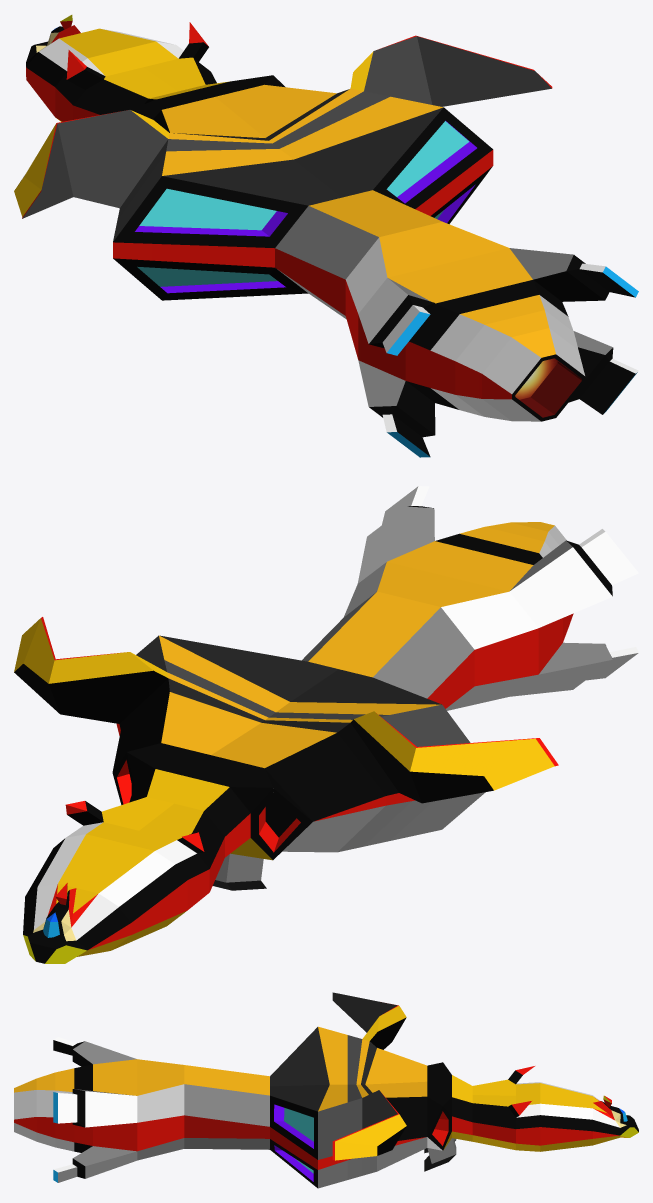
The model's file is Mothership.fbx.
3 views of the same model, one above another, from view 1: azimuth 30°, elevation 25°; view 2: azimuth 150°, elevation 25°; view 3: azimuth 270°, elevation 25° (orthographic). The views are drawn at different scales.
Parts seen in each view (by area): view 1: Mship; view 2: Mship; view 3: Mship.
Boxes of the visible parts, box(x1,y1,x2,y2) form: Mship: box(14, 15, 638, 457); Mship: box(14, 486, 638, 963); Mship: box(14, 992, 638, 1188).
Size of the model in its own units: 1427 by 428 by 2348.
